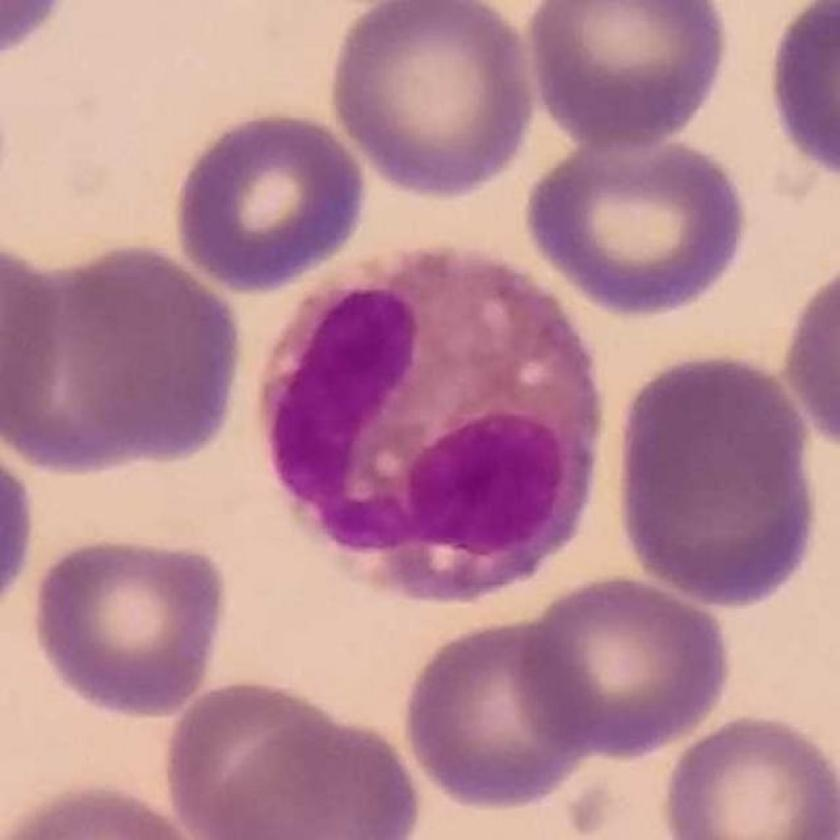eosinophil: (260, 232, 602, 597)
